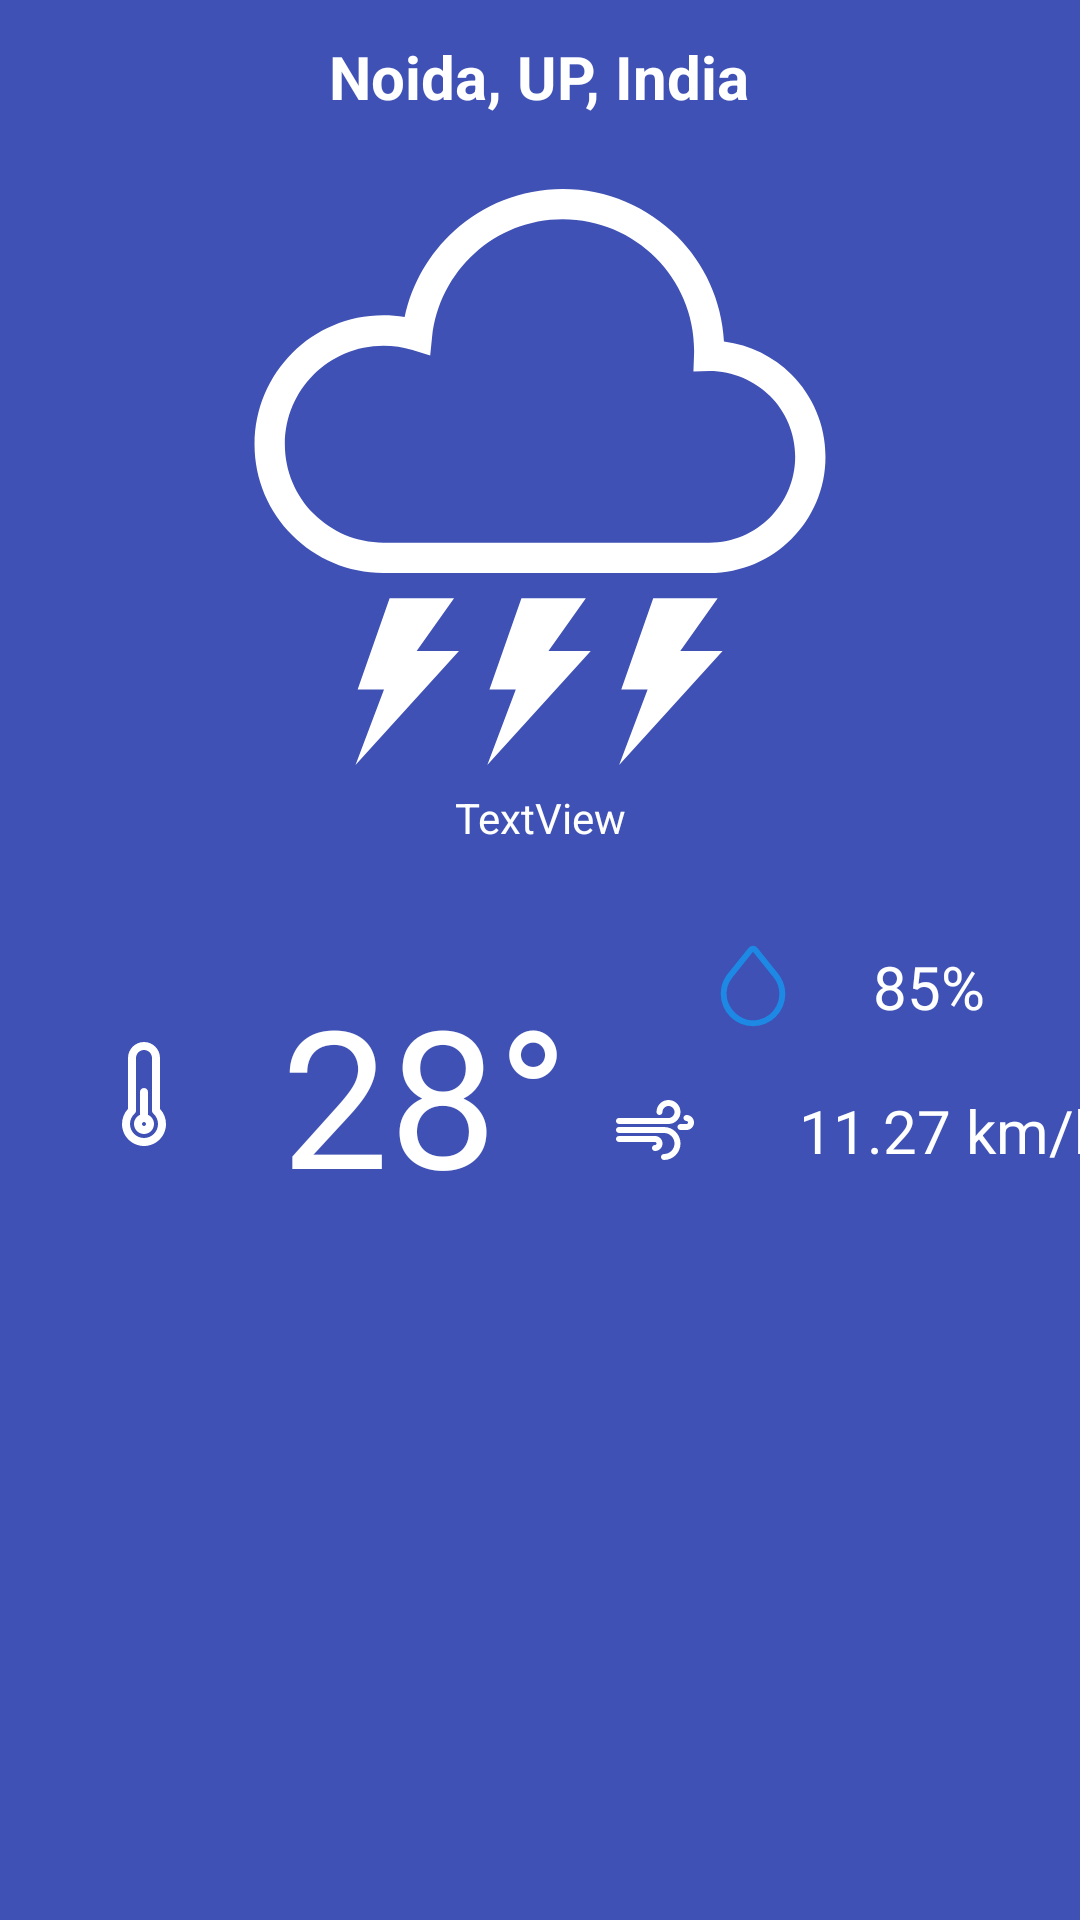

Icon bounding boxes for this 1080px×1920px phone screenshot, format (x1, y1, x2, y2):
weather rain drop: (721, 946, 785, 1026)
weather temperature: (122, 1042, 166, 1146)
weather wind: (616, 1100, 694, 1160)
